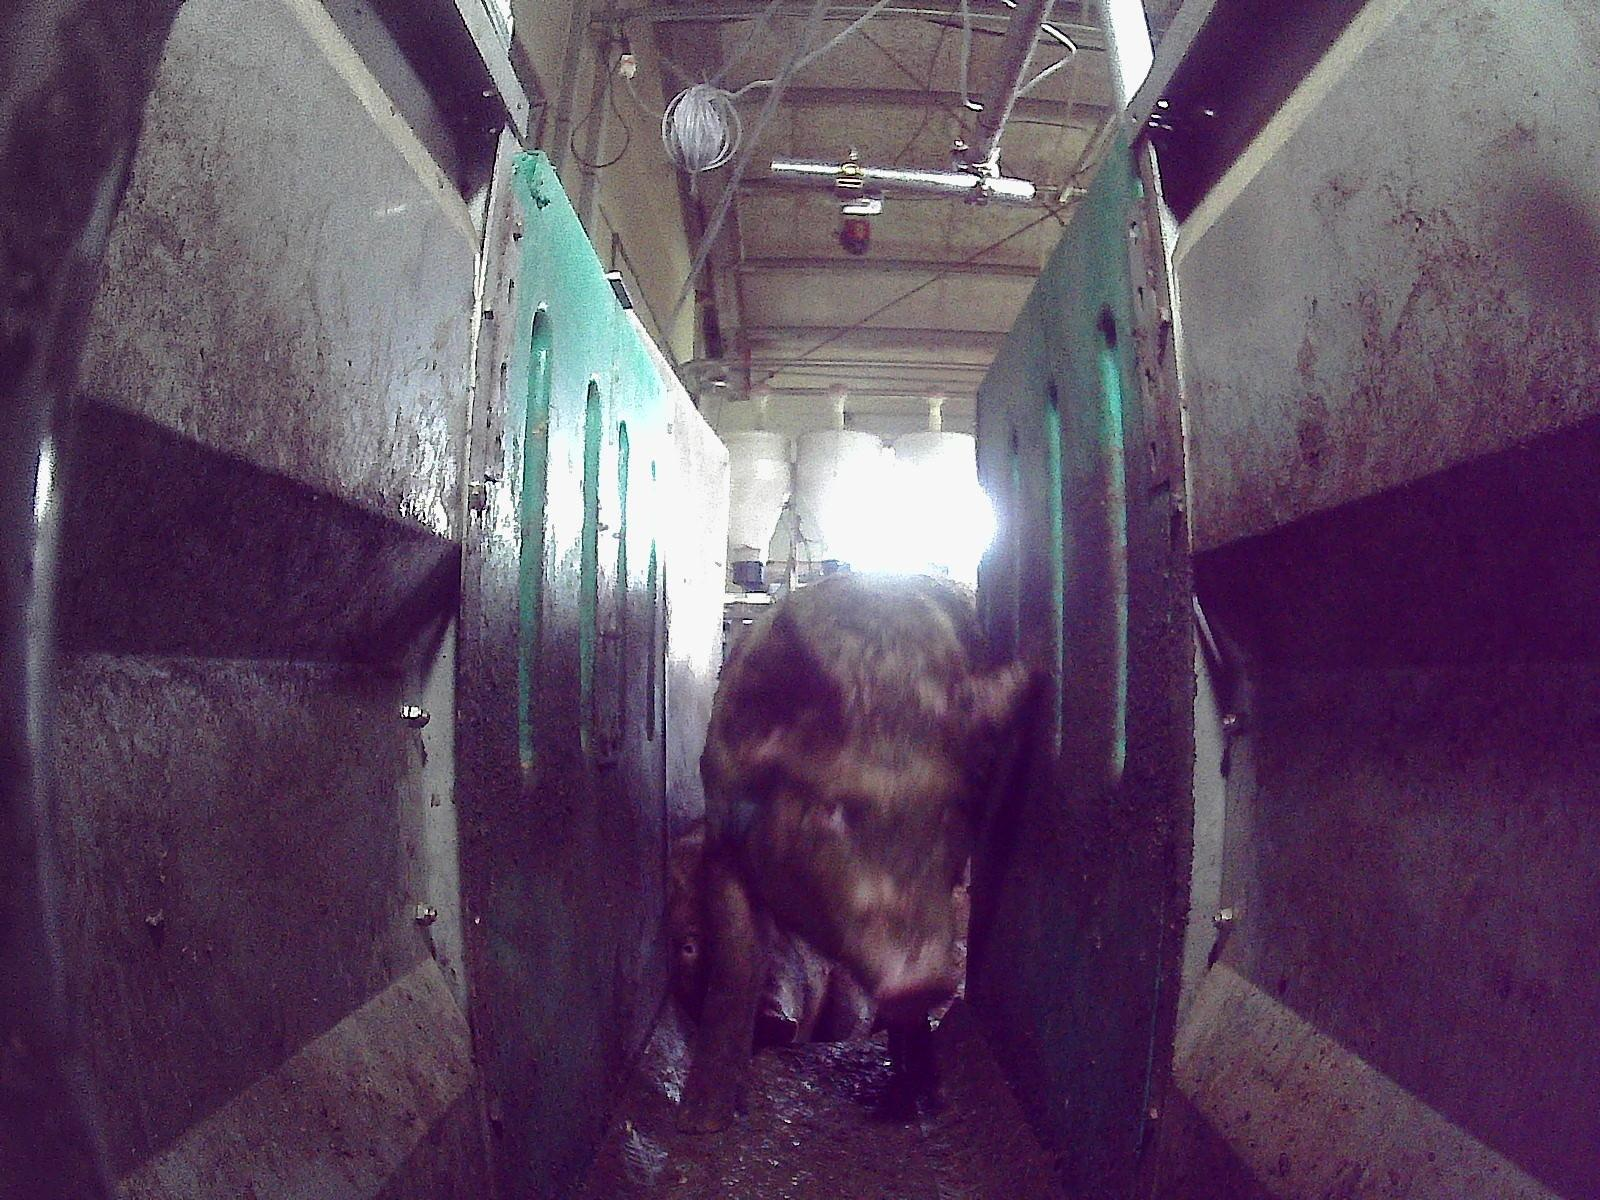Face: (784, 704, 968, 1018)
